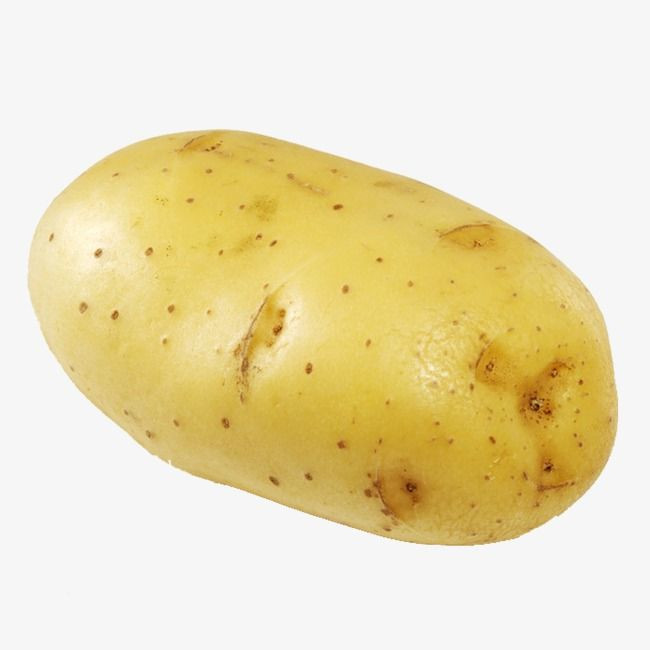potato: (24, 127, 620, 547)
